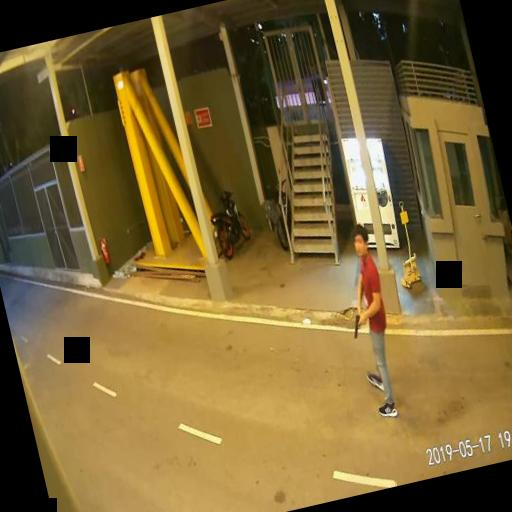Handgun: (348, 309, 364, 336)
